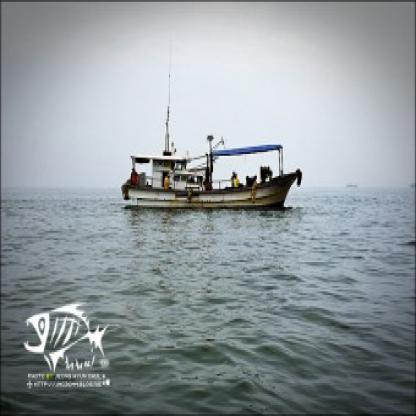Ship: (115, 131, 310, 219)
